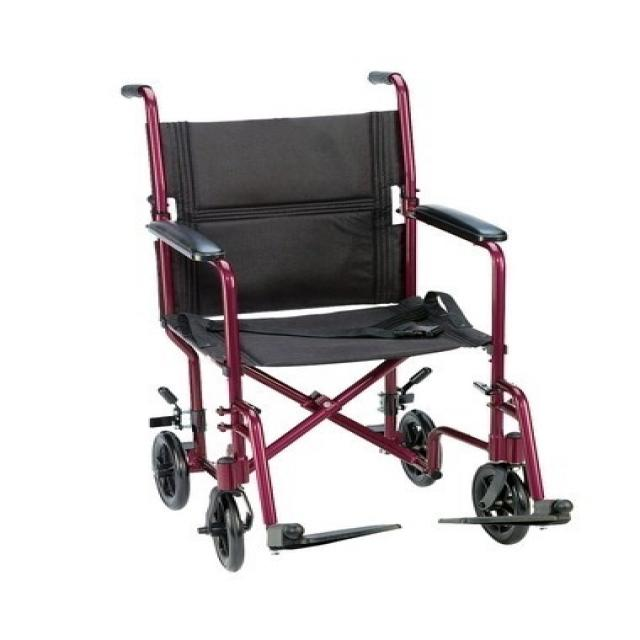wheelchair: (100, 68, 592, 580)
